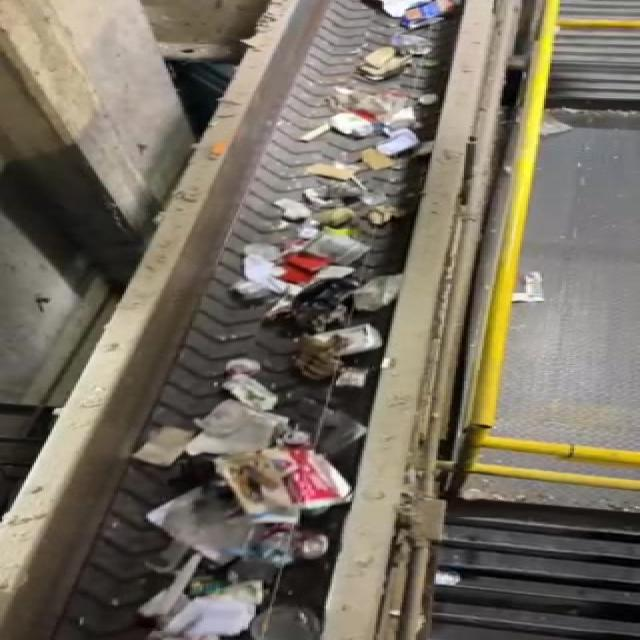ps: (210, 444, 359, 521), (144, 591, 278, 640)
